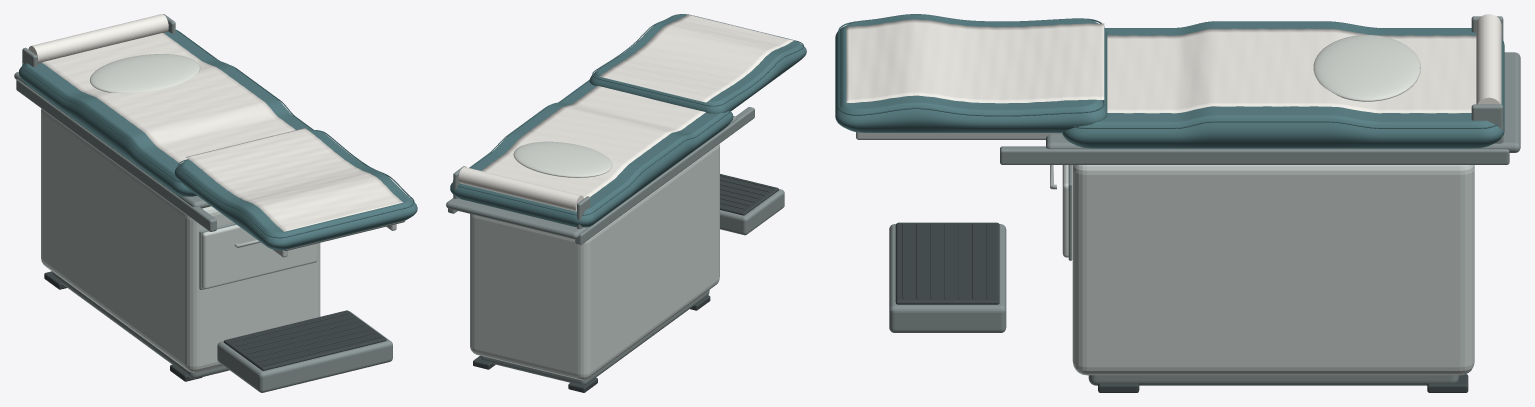
Rendered from clinical-exam-table.glb.
3 views of the same model, side by side, from view 1: azimuth 30°, elevation 25°; view 2: azimuth 150°, elevation 25°; view 3: azimuth 270°, elevation 25° (orthographic). The views are drawn at different scales.
Parts seen in each view (by area): view 1: Clinical table cabinet, Fresh main examination paper, Fresh leg examination paper, Main upholstered cushion, Upholstered leg extension, Step tread, Clinical supply drawer, Stable access step, Clinical head pillow, Support rail, Examination paper roll, Clinical lower plinth (+3 smaller); view 2: Clinical table cabinet, Fresh main examination paper, Fresh leg examination paper, Main upholstered cushion, Upholstered leg extension, Clinical head pillow, Examination paper roll, Support rail, Cushion support deck, Step tread, Stable access step, Clinical lower plinth (+2 smaller); view 3: Clinical table cabinet, Fresh main examination paper, Fresh leg examination paper, Main upholstered cushion, Upholstered leg extension, Support rail.001, Step tread, Clinical head pillow, Stable access step, Clinical lower plinth, Cushion support deck, Examination paper roll (+5 smaller).
Boxes of the visible parts, box(x1,y1,x2,y2) form: Clinical table cabinet: box(41, 108, 320, 372); Fresh main examination paper: box(42, 33, 295, 163); Fresh leg examination paper: box(186, 128, 403, 231); Main upholstered cushion: box(19, 30, 311, 196); Upholstered leg extension: box(174, 130, 417, 250); Step tread: box(223, 310, 386, 370); Clinical supply drawer: box(202, 224, 317, 289); Stable access step: box(217, 311, 392, 392); Clinical head pillow: box(90, 54, 200, 93); Support rail: box(16, 79, 216, 231); Examination paper roll: box(28, 14, 168, 63); Clinical lower plinth: box(52, 272, 229, 378); Clinical table cabinet: box(470, 144, 719, 380); Fresh main examination paper: box(481, 85, 705, 198); Fresh leg examination paper: box(599, 14, 793, 102); Main upholstered cushion: box(450, 81, 733, 227); Upholstered leg extension: box(589, 14, 806, 113); Clinical head pillow: box(513, 141, 612, 177); Examination paper roll: box(458, 167, 583, 211); Support rail: box(575, 107, 754, 244); Cushion support deck: box(446, 116, 737, 239); Step tread: box(720, 174, 778, 215); Stable access step: box(720, 189, 784, 235); Clinical lower plinth: box(480, 290, 709, 383); Clinical table cabinet: box(1072, 165, 1474, 375); Fresh main examination paper: box(1107, 28, 1476, 113); Fresh leg examination paper: box(846, 19, 1104, 103); Main upholstered cushion: box(1062, 21, 1504, 148); Upholstered leg extension: box(835, 14, 1107, 132); Support rail.001: box(1000, 146, 1509, 164); Step tread: box(895, 222, 999, 304); Clinical head pillow: box(1313, 35, 1420, 101); Stable access step: box(889, 224, 1006, 332); Clinical lower plinth: box(1088, 375, 1458, 385); Cushion support deck: box(1046, 52, 1520, 152); Examination paper roll: box(1476, 14, 1501, 104).
Bounding box in the file's own units: 0.76 × 1.04 × 2.16.
